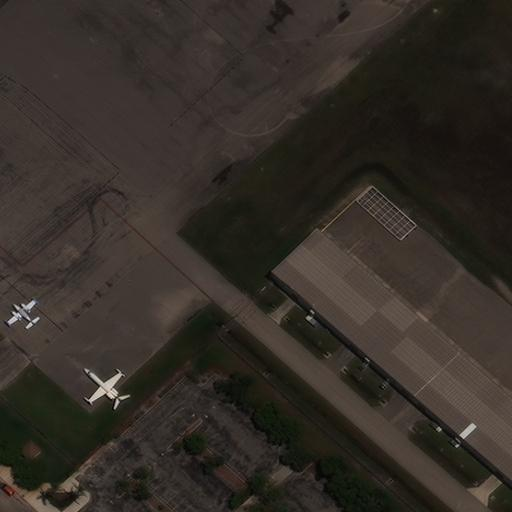Small Civil Transport: (83, 367, 121, 402), (7, 299, 34, 325)
